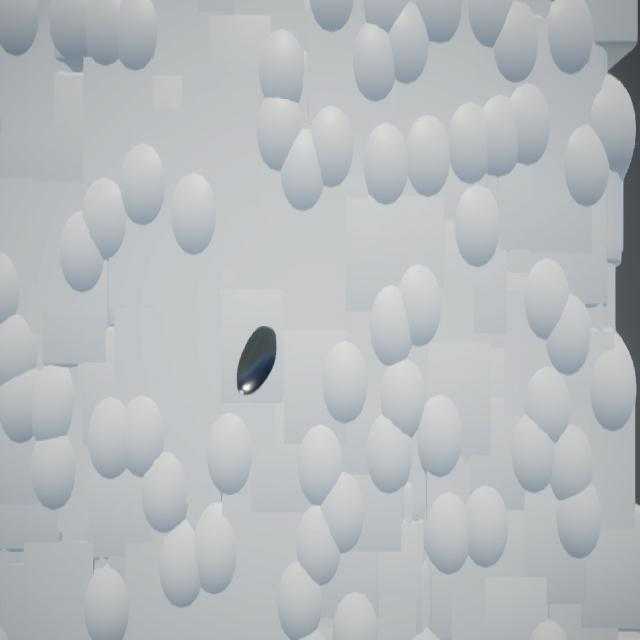top_spoon: (237, 327, 278, 396)
